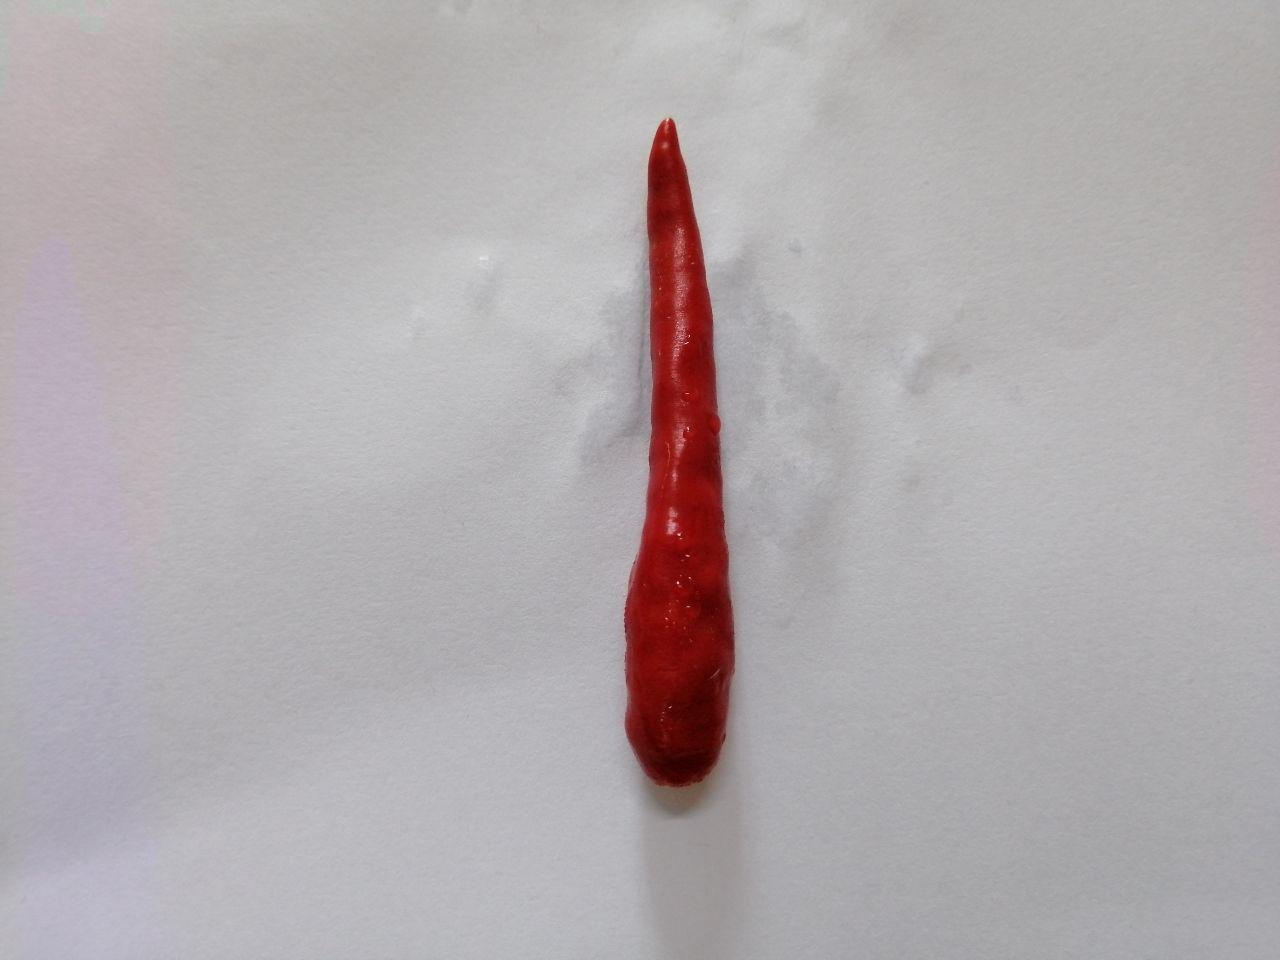lada merah: (599, 83, 780, 808)
